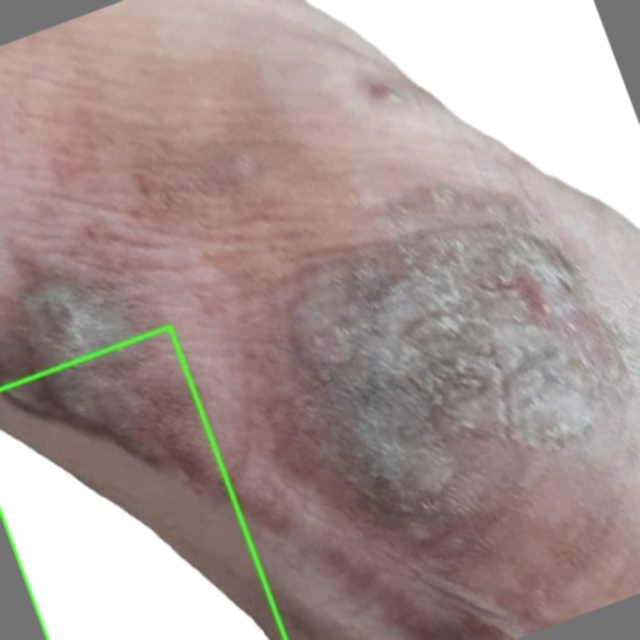Contact Dermatitis: (0, 326, 285, 639)
